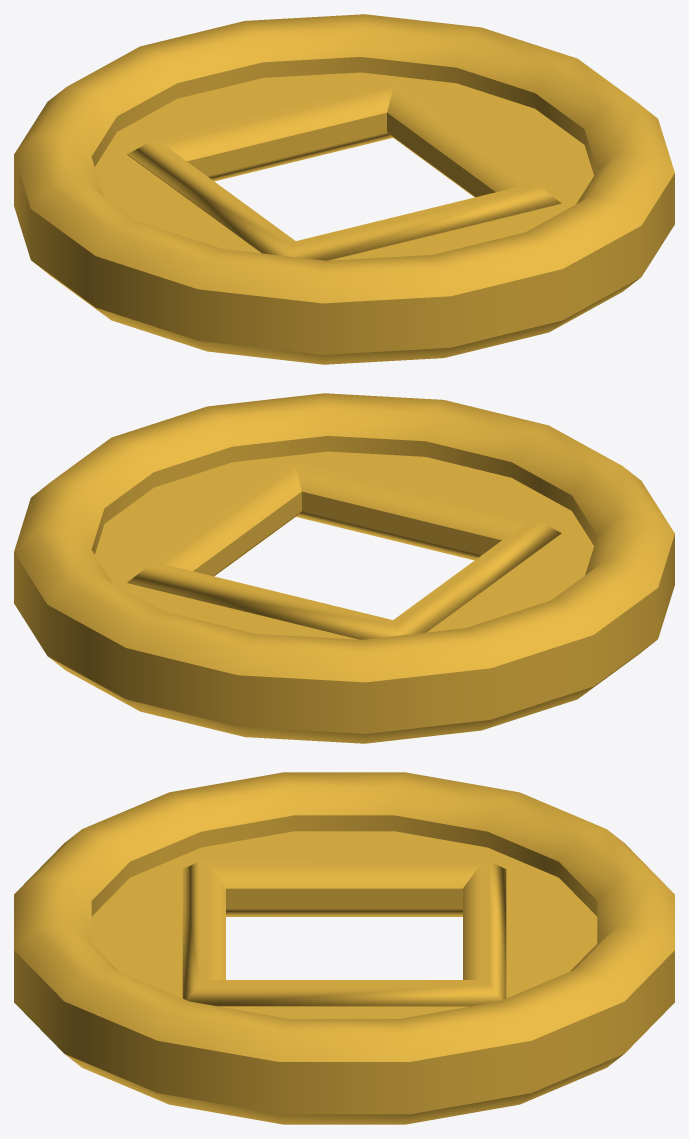
Rendered from coin2notex.fbx.
3 renders of one model, top to bottom at view 1: azimuth 30°, elevation 25°; view 2: azimuth 150°, elevation 25°; view 3: azimuth 270°, elevation 25°, orthographic.
Parts seen in each view (by area): view 1: coin2notex; view 2: coin2notex; view 3: coin2notex.
Part boxes in pixels (box(x1,y1,x2,y2)): coin2notex: box(14, 14, 674, 364); coin2notex: box(14, 393, 674, 743); coin2notex: box(14, 772, 674, 1124).
Size of the model in its own units: 0.2942 by 0.0445 by 0.2942.
